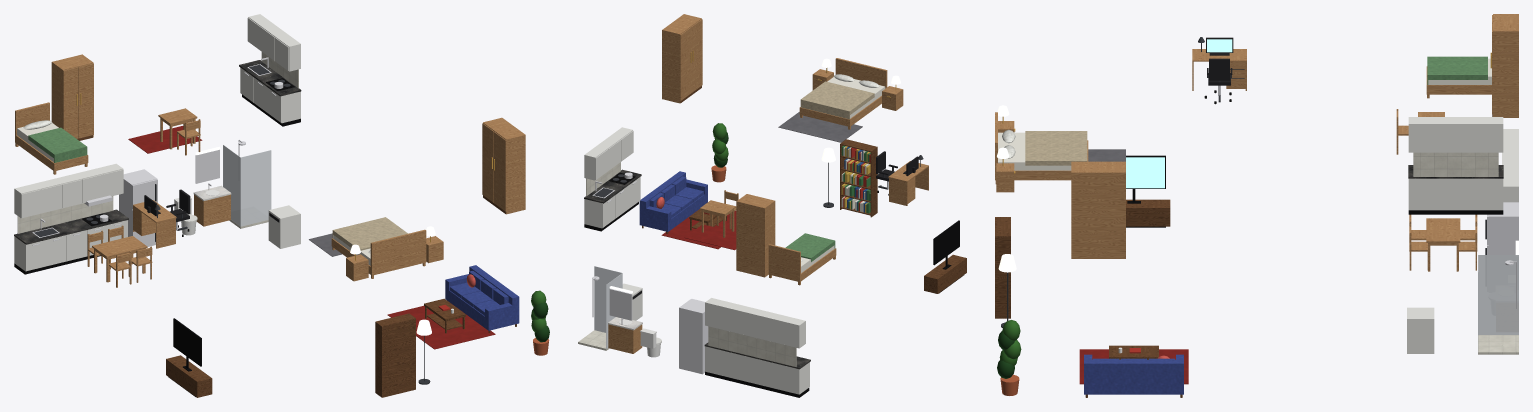
The model's file is i_concrete_minimal.gltf.
3 renders of one model, left to right at view 1: azimuth 30°, elevation 25°; view 2: azimuth 150°, elevation 25°; view 3: azimuth 270°, elevation 25°, orthographic. The views are drawn at different scales.
Visible parts, largest first — view 1: I_concrete_minimal; view 2: I_concrete_minimal; view 3: I_concrete_minimal.
Part boxes in pixels (left/top/right/bottom): I_concrete_minimal: left=14, top=14, right=549, bottom=397; I_concrete_minimal: left=578, top=14, right=966, bottom=397; I_concrete_minimal: left=995, top=14, right=1518, bottom=397.
Size of the model in its own units: 9.36 by 5.6 by 11.52.
Materials: 34 (13 with a texture image).
